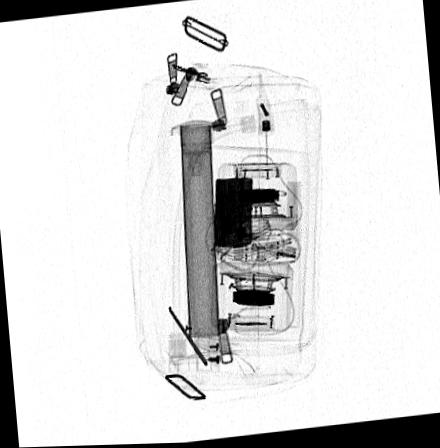Lighter: (212, 178, 252, 251)
